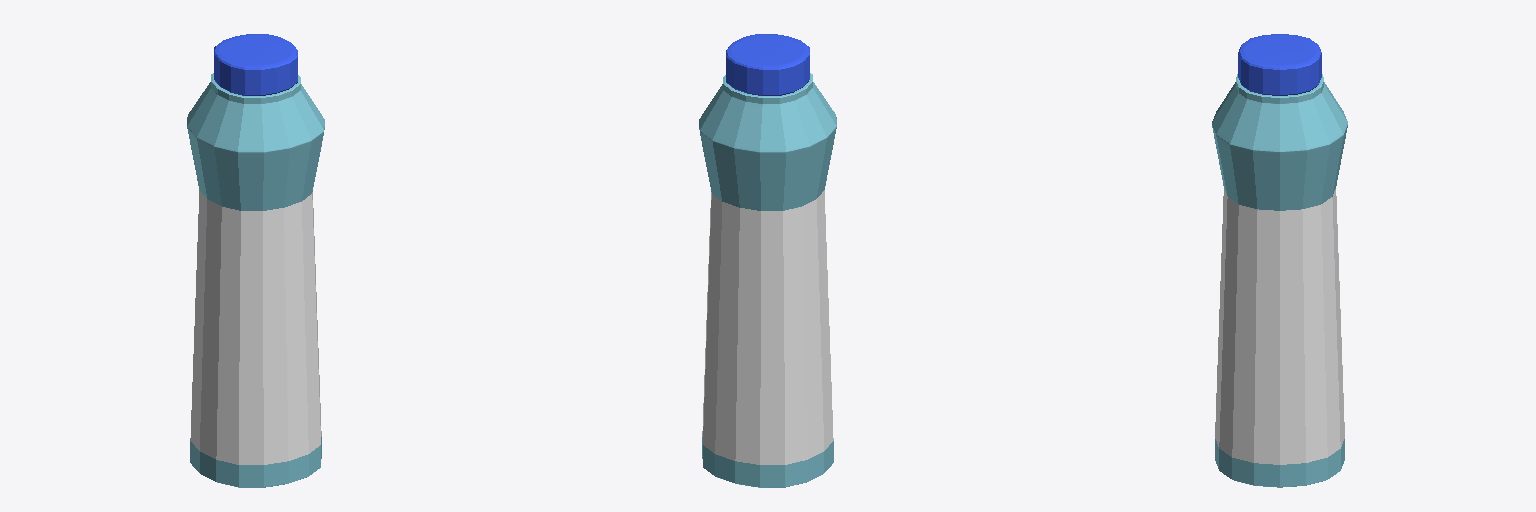
Rendered from Water.obj.
The picture shows the model from 3 angles: view 1: azimuth 30°, elevation 25°; view 2: azimuth 150°, elevation 25°; view 3: azimuth 270°, elevation 25°; orthographic projection.
Parts seen in each view (by area): view 1: pCube3 polySurface6, pCube3 polySurface5, polySurface3 pCube3, pCube3 polySurface4; view 2: pCube3 polySurface6, pCube3 polySurface5, polySurface3 pCube3, pCube3 polySurface4; view 3: pCube3 polySurface6, pCube3 polySurface5, polySurface3 pCube3, pCube3 polySurface4.
Boxes of the visible parts, box(x1,y1,x2,y2) form: pCube3 polySurface6: box(190, 190, 321, 464); pCube3 polySurface5: box(187, 73, 324, 210); polySurface3 pCube3: box(214, 34, 297, 95); pCube3 polySurface4: box(190, 437, 321, 487); pCube3 polySurface6: box(702, 190, 833, 464); pCube3 polySurface5: box(699, 73, 836, 210); polySurface3 pCube3: box(726, 34, 809, 95); pCube3 polySurface4: box(702, 437, 833, 487); pCube3 polySurface6: box(1215, 189, 1344, 464); pCube3 polySurface5: box(1212, 74, 1347, 210); polySurface3 pCube3: box(1238, 34, 1321, 95); pCube3 polySurface4: box(1215, 439, 1344, 487).
Size of the model in its own units: 0.4039 by 1.34 by 0.4039.